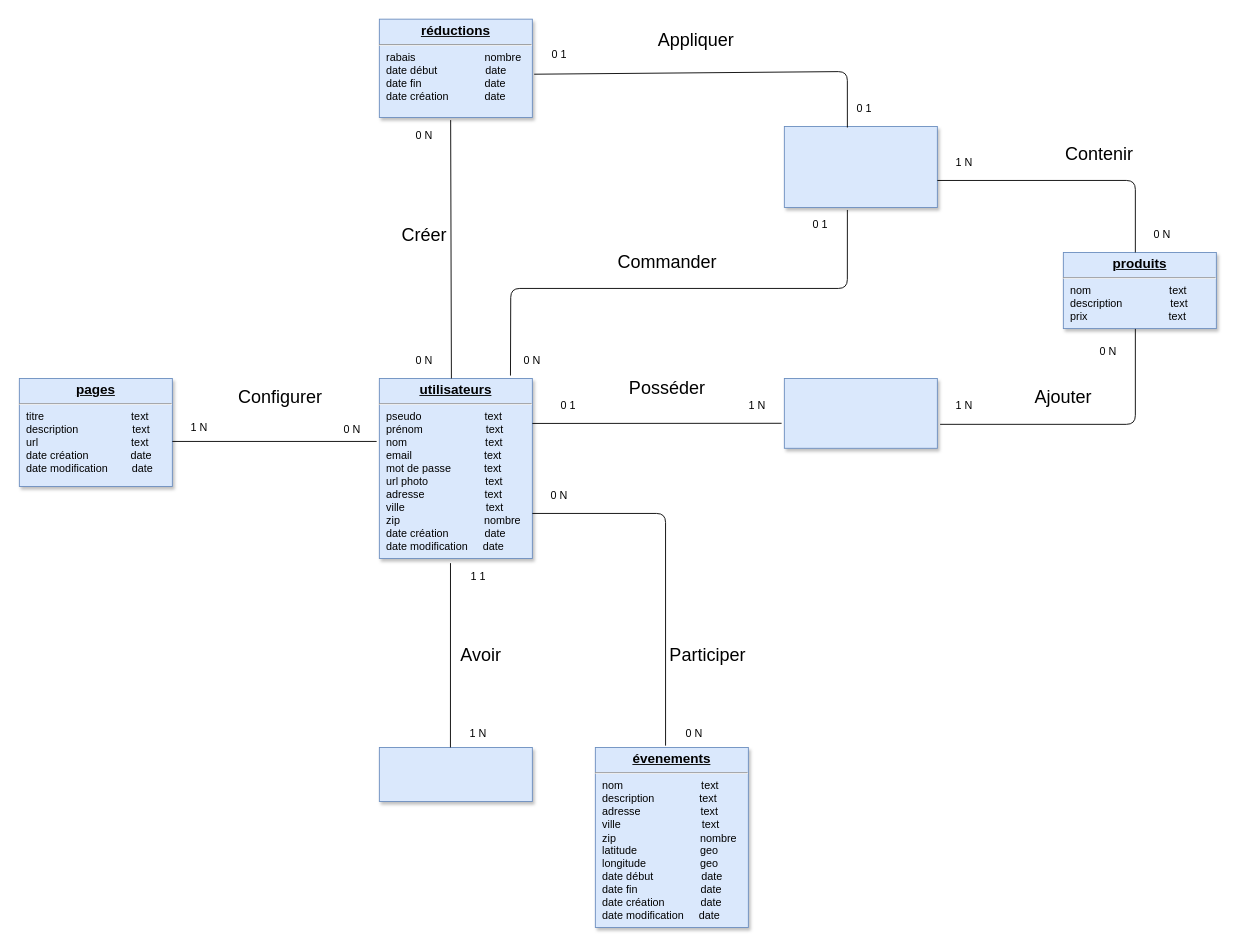
Image size: 1238x950. Some labels were removed from this diagram. Each missing label, with the centre of its shape:
"commandes quantité nombre date création nombre numéro suivi text" goes at point 861,168.
"paniers quantité nombre prix nombre" goes at point 861,414.
"rôles nom text" goes at point 456,775.
